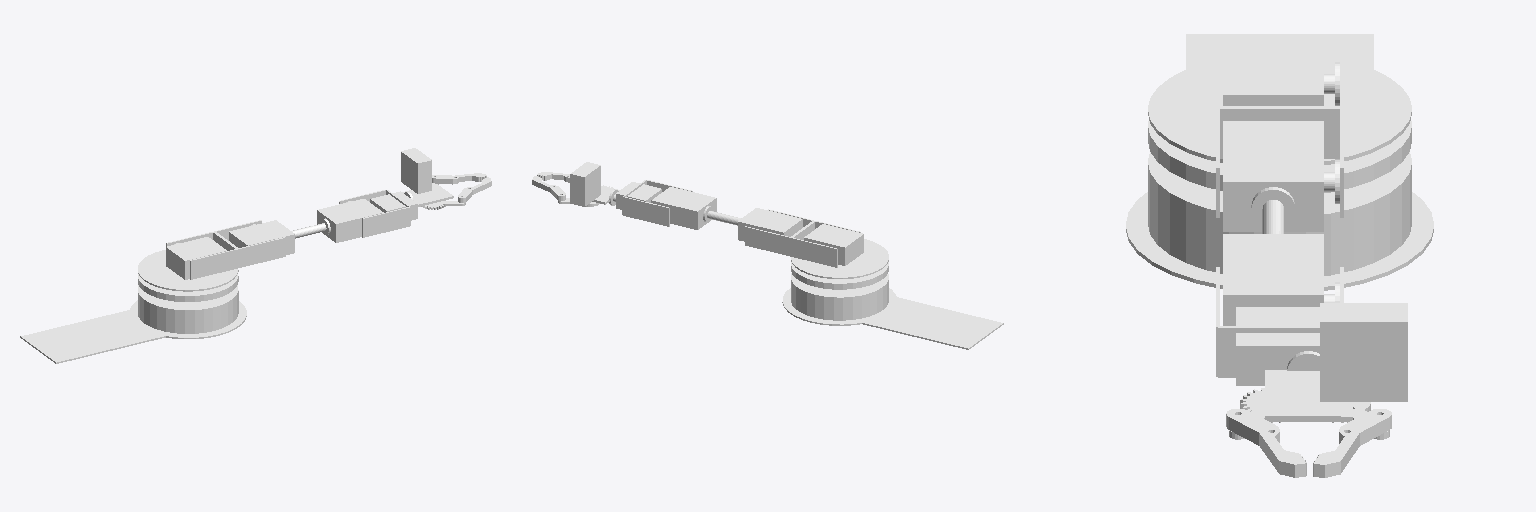
robot.urdf — robot:
<?xml version="1.0"?>
<robot name="robot">

	<material name="red">
		<color rgba="1 1 1 1"/>
	</material>

	<material name="blue">
		<color rgba="0 0 0.8 1"/>
	</material>
	
	<material name="white">
		<color rgba="1 1 1 1"/>
	</material>

	<material name="black">
		<color rgba="1 1 1 1"/>
	</material>


	<link name="base_link">
		<visual>
			<geometry>
				<cylinder radius="0.7" length="0.02"/>
			</geometry>
			<material name="black"/>
			<origin rpy="0 0 0" xyz="0 0 0"/>
		</visual>
	</link>


	<link name="base_black">
		<visual>
			<geometry>
				<cylinder radius="0.6" length="0.31"/>
			</geometry>
			<material name="black"/>
			<origin rpy="0 0 0" xyz="0 0 0"/>
		</visual>
	</link>

	<joint name="base_link_black" type="fixed">
		<parent link="base_link"/>
		<child link="base_black"/>
		<origin rpy="0 0 0" xyz="0 0 0.17"/>
	</joint>

	<link name="base_box">
		<visual>
			<geometry>
				<box size="2.05 0.85 0.02"/>
			</geometry>
			<material name="black"/>
			<origin rpy="0 0 0" xyz="-0.325 0 0"/>
		</visual>
	</link>

	<joint name="base_link_box" type="fixed">
		<parent link="base_link"/>
		<child link="base_box"/>
		<origin rpy="0 0 0" xyz="-0.7 0 0"/>
	</joint>


	<link name="base_white">
		<visual>
			<geometry>
				<cylinder radius="0.6" length="0.08"/>
			</geometry>
			<material name="white"/>
		<origin rpy="0 0 0" xyz="0 0 -0.04"/>
		</visual>
	</link>


	<joint name="base_black_white" type="fixed">
		<parent link="base_black"/>
		<child link="base_white"/>
		<origin rpy="0 0 0" xyz="0 0 0.34"/>
	</joint>

	<link name="base_link_rot">
		<visual>
			<geometry>
				<cylinder radius="0.6" length="0.02"/>
			</geometry>
			<material name="black"/>
			<origin rpy="0 0 0" xyz="0 0 -0.01"/>
		</visual>
	</link>
		
	<joint name="joint0" type="revolute">
		<parent link="base_white"/>
		<child link="base_link_rot"/>
		<limit effort="1000.0" lower="-1.5707" upper="1.5707" velocity="0.5"/>
		<origin rpy="0 0 0" xyz="0 0 0.08"/>
		<axis xyz="0 0 1"/>
	</joint>

	

	<link name="link1">
		<visual>
			<geometry>
				<box size="0.58 0.46 0.25"/>
			</geometry>
			<origin rpy="0 0 0" xyz="0 0 0"/>
			<material name="red"/>
		</visual>
	</link>

	<joint name="base_link1" type="fixed">
		<parent link="base_link_rot"/>
		<child link="link1"/>
		<origin rpy="0 0 0" xyz="0.1 -0.03 0.125"/>
		<axis xyz="0 0 1"/>
	</joint>

	<link name="link1_rot1">
		<visual>
			<geometry>
				<cylinder radius="0.045" length="0.05"/>
			</geometry>
			<material name="white"/>
			<origin rpy="0 0 0" xyz="0 0 -0.025"/>
		</visual>
	</link>
		
	<joint name="joint1" type="revolute">
		<parent link="link1"/>
		<child link="link1_rot1"/>
		<limit effort="1000.0" lower="0" upper="3.1415" velocity="0.5"/>
		<origin rpy="1.5707 0 0" xyz="-0.1 0.23 0"/>
		<axis xyz="0 0 1"/>
	</joint>

	<link name="link1_rot2">
		<visual>
			<geometry>
				<cylinder radius="0.1" length="0.02"/>
			</geometry>
			<material name="white"/>
			<origin rpy="0 0 0" xyz="0 0 -0.01"/>
		</visual>
	</link>
		
	<joint name="link1_rot2_rot1" type="fixed">
		<parent link="link1_rot1"/>
		<child link="link1_rot2"/>
		<origin rpy="0 0 0" xyz="0 0 -0.05"/>
	</joint>

	<link name="link1_frame1">
		<visual>
			<geometry>
				<box size="0.65 0.25 0.02"/>
			</geometry>
			<material name="black"/>
			<origin rpy="0 0 0" xyz="-0.325 0 0"/>
		</visual>
	</link>

	<joint name="link1_rot2_frame1" type="fixed">
		<parent link="link1_rot2"/>
		<child link="link1_frame1"/>
		<origin rpy="0 0 0" xyz="0.52 0 -0.03"/>
	</joint>
	
	<link name="link1_frame2">
		<visual>
			<geometry>
				<box size="0.04 0.25 0.56"/>
			</geometry>
			<material name="black"/>
			<origin rpy="0 0 0" xyz="0 0 -0.28"/>
		</visual>
	</link>

	<joint name="link1_frame1_frame2" type="fixed">
		<parent link="link1_frame1"/>
		<child link="link1_frame2"/>
		<origin rpy="0 0 0" xyz="0 0 0.56"/>
	</joint>

	<link name="link1_frame3">
		<visual>
			<geometry>
				<box size="0.65 0.25 0.02"/>
			</geometry>
			<material name="black"/>
			<origin rpy="0 0 0" xyz="-0.325 0 0"/>
		</visual>
	</link>

	<joint name="link1_frame1_frame3" type="fixed">
		<parent link="link1_frame1"/>
		<child link="link1_frame3"/>
		<origin rpy="0 0 0" xyz="0.65 0 0"/>
	</joint>

	<link name="link1_frame4">
		<visual>
			<geometry>
				<box size="0.65 0.25 0.02"/>
			</geometry>
			<material name="black"/>
			<origin rpy="0 0 0" xyz="-0.325 0 0"/>
		</visual>
	</link>

	<joint name="link1_frame2_frame4" type="fixed">
		<parent link="link1_frame2"/>
		<child link="link1_frame4"/>
		<origin rpy="0 0 0" xyz="0 0 0"/>
	</joint>

	<link name="link1_frame5">
		<visual>
			<geometry>
				<box size="0.65 0.25 0.02"/>
			</geometry>
			<material name="black"/>
			<origin rpy="0 0 0" xyz="-0.325 0 0"/>
		</visual>
	</link>

	<joint name="link1_frame4_frame5" type="fixed">
		<parent link="link1_frame4"/>
		<child link="link1_frame5"/>
		<origin rpy="0 0 0" xyz="0.65 0 0"/>
	</joint>

	<link name="link2">
		<visual>
			<geometry>
				<box size="0.65 0.25 0.46"/>
			</geometry>	
			<material name="red"/>
			<origin rpy="0 0 0" xyz="-0.325 0 0"/>
		</visual>
	</link>

	<link name="link2_rot1">
		<visual>
			<geometry>
				<cylinder radius="0.045" length="0.05"/>
			</geometry>	
			<material name="white"/>
			<origin rpy="0 0 0" xyz="0 0 -0.025"/>
		</visual>
	</link>

	
	<link name="link2_rot2">
		<visual>
			<geometry>
				<cylinder radius="0.1" length="0.02"/>
			</geometry>	
			<material name="white"/>
			<origin rpy="0 0 0" xyz="0 0 -0.01"/>
		</visual>
	</link>


	<joint name="joint2" type="revolute">
		<parent link="link1_frame3"/>
		<child link="link2_rot1"/>
		<limit effort="1000.0" lower="-1.5707" upper="1.5707" velocity="0.5"/>
		<origin rpy="0 0 0" xyz="-0.12 0 0.08"/>
		<axis xyz="0 0 1"/>
	</joint>

	<joint name="link2_rot2_rot1" type="fixed">
		<parent link="link2_rot1"/>
		<child link="link2_rot2"/>
		<origin rpy="0 0 0" xyz="0 0 -0.05"/>
	</joint>

	<joint name="link2_rot1" type="fixed">
		<parent link="link2_rot2"/>
		<child link="link2"/>
		<origin rpy="0 0 0" xyz="0.27 0 0.28"/>
	</joint>

	<link name="link2_bar1">
		<visual>
			<geometry>
				<cylinder radius="0.1" length="0.03"/>
			</geometry>	
			<material name="white"/>
			<origin rpy="0 1.57 0" xyz="-0.015 0 0"/>
		</visual>
	</link>

	<!-- link2_bar1 will be a virtual revolute joint 
			 as well as link2_bar1_bar2 these should improve 
			the accurasy of kdl kinematic solver
	-->
	
	<joint name="link2_bar1" type="revolute">
		<parent link="link2"/>
		<child link="link2_bar1"/>
		<limit effort="1000.0" lower="-0.005" upper="0.005" velocity="0.5"/>
		<axis xyz="1 0 0"/>
		<origin rpy="0 0 0" xyz="0.03 0 0"/>
	</joint>

	<link name="link2_bar2">
		<visual>
			<geometry>
				<cylinder radius="0.05" length="0.5"/>
			</geometry>	
			<material name="white"/>
			<origin rpy="0 1.57 0" xyz="-0.25 0 0"/>
		</visual>
	</link>

	<joint name="link2_bar1_bar2" type="revolute">
		<parent link="link2_bar1"/>
		<child link="link2_bar2"/>
		<limit effort="1000.0" lower="-0.005" upper="0.005" velocity="0.5"/>
		<axis xyz="0 1 0"/>
		<origin rpy="0 0 0" xyz="0.5 0 0"/>
	</joint>

	<!-- !!!! END of virtual joints !!!!! -->
	
	<link name="link2_bar3">
		<visual>
			<geometry>
				<cylinder radius="0.1" length="0.03"/>
			</geometry>	
			<material name="white"/>
			<origin rpy="0 1.57 0" xyz="-0.015 0 0"/>
		</visual>
	</link>

	<joint name="link2_bar2_bar3" type="fixed">
		<parent link="link2_bar2"/>
		<child link="link2_bar3"/>
		<origin rpy="0 0 0" xyz="0.03 0 0"/>
	</joint>

	<link name="link3">
		<visual>
			<geometry>
				<box size="0.65 0.25 0.46"/>
			</geometry>	
			<material name="red"/>
			<origin rpy="0 0 0" xyz="0 0 0"/>
		</visual>
	</link>

	<joint name="link2_bar3_link3" type="fixed">
		<parent link="link2_bar3"/>
		<child link="link3"/>
		<origin rpy="0 0 0" xyz="0.325 0 0"/>
	</joint>

	<link name="link3_rot1">
		<visual>
			<geometry>
				<cylinder radius="0.045" length="0.05"/>
			</geometry>	
			<material name="white"/>
			<origin rpy="0 0 0" xyz="0 0 -0.025"/>
		</visual>
	</link>

	<joint name="joint3" type="revolute">
		<parent link="link3"/>
		<child link="link3_rot1"/>
		<limit effort="1000.0" lower="-1.5707" upper="1.5707" velocity="0.5"/>
		<origin rpy="0 0 0" xyz="0.155 0 -0.23"/>
		<axis xyz="0 0 1"/>
	</joint>
	
	<link name="link3_rot2">
		<visual>
			<geometry>
				<cylinder radius="0.1" length="0.02"/>
			</geometry>	
			<material name="white"/>
			<origin rpy="0 0 0" xyz="0 0 -0.01"/>
		</visual>
	</link>

	<joint name="link3_rot2_rot1" type="fixed">
		<parent link="link3_rot1"/>
		<child link="link3_rot2"/>
		<origin rpy="0 0 0" xyz="0 0 -0.05"/>
	</joint>

	<link name="link3_frame1">
		<visual>
			<geometry>
				<box size="0.65 0.25 0.02"/>
			</geometry>
			<material name="black"/>
			<origin rpy="0 0 0" xyz="-0.325 0 0"/>
		</visual>
	</link>

	<joint name="link3_rot2_frame1" type="fixed">
		<parent link="link3_rot2"/>
		<child link="link3_frame1"/>
		<origin rpy="0 0 0" xyz="0.52 0 -0.03"/>
	</joint>
	
	<link name="link3_frame2">
		<visual>
			<geometry>
				<box size="0.02 0.25 0.56"/>
			</geometry>
			<material name="black"/>
			<origin rpy="0 0 0" xyz="0 0 -0.28"/>
		</visual>
	</link>

	<joint name="link3_frame1_frame2" type="fixed">
		<parent link="link3_frame1"/>
		<child link="link3_frame2"/>
		<origin rpy="0 0 0" xyz="0 0 0.56"/>
	</joint>

	<link name="link3_frame3">
		<visual>
			<geometry>
				<box size="0.65 0.25 0.02"/>
			</geometry>
			<material name="black"/>
			<origin rpy="0 0 0" xyz="-0.325 0 0"/>
		</visual>
	</link>

	<joint name="link3_frame2_frame3" type="fixed">
		<parent link="link3_frame2"/>
		<child link="link3_frame3"/>
		<origin rpy="0 0 0" xyz="0 0 0"/>
	</joint>

	<link name="link4">
		<visual>
			<geometry>
				<box size="0.42 0.20 0.40"/>
			</geometry>	
			<material name="red"/>
			<origin rpy="0 0 0" xyz="0 0 0"/>
		</visual>
	</link>

	<joint name="link3_frame1_link4" type="fixed">
		<parent link="link3_frame1"/>
		<child link="link4"/>
		<origin rpy="0 0 0" xyz="-0.06 0 0.28"/>
	</joint>

	<link name="link4_rot1">
		<visual>
			<geometry>
				<cylinder radius="0.045" length="0.05"/>
			</geometry>	
			<material name="white"/>
			<origin rpy="0 0 0" xyz="0 0 0.025"/>
		</visual>
	</link>

	<joint name="joint4" type="revolute">
		<parent link="link4"/>
		<child link="link4_rot1"/>
		<limit effort="1000.0" lower="-1.5707" upper="1.5707" velocity="0.5"/>
		<origin rpy="0 1.5707 0" xyz="0.21 0 -0.13"/>
		<axis xyz="0 0 1"/>
	</joint>
	
	<link name="link4_rot2">
		<visual>
			<geometry>
				<cylinder radius="0.1" length="0.02"/>
			</geometry>	
			<material name="white"/>
			<origin rpy="0 0 0" xyz="0 0 -0.01"/>
		</visual>
	</link>

	<joint name="link4_rot2_rot1" type="fixed">
		<parent link="link4_rot1"/>
		<child link="link4_rot2"/>
		<origin rpy="0 0 0" xyz="0 0 0.07"/>
	</joint>

  <!-- adding virtual joints for kdl kinematics solver 
			These links and joints are used because
			the kdl solver works with 6 or more dof
		-->

	<link name="vl0">
		<visual>
			<geometry>
				<cylinder radius="0.1" length="0.02"/>
			</geometry>	
			<material name="white"/>
			<origin rpy="0 0 0" xyz="0 0 0"/>
		</visual>
	</link>

	<joint name="vj0" type="revolute">
		<parent link="link4_rot2"/>
		<child link="vl0"/>
		<limit effort="1000.0" lower="-0.005" upper="0.005" velocity="0.5"/>
		<origin rpy="0 0 0" xyz="0 0 0"/>
		<axis xyz="0 1 0"/>
	</joint>
	
	<link name="vl1">
		<visual>
			<geometry>
				<cylinder radius="0.1" length="0.02"/>
			</geometry>	
			<material name="white"/>
			<origin rpy="0 0 0" xyz="0 0 0"/>
		</visual>
	</link>

	<joint name="vj1" type="revolute">
		<parent link="vl0"/>
		<child link="vl1"/>
		<limit effort="1000.0" lower="-0.005" upper="0.005" velocity="0.5"/>
		<origin rpy="0 0 0" xyz="0 0 0"/>
		<axis xyz="1 0 0"/>
	</joint>

	<!-- END of Virtual joints and links -->

	<!-- Gripper -->
    
	<joint name="arm_hand" type="fixed">
		<parent link="vl1"/>
		<child link="hand_base"/>
		<origin rpy="1.57 -1.57 0" xyz="0 0 0.25"/>
	</joint>


    <link name="hand_base">
    <visual>
      <origin xyz="0 0 0" rpy="0 0 0" />
      <geometry>
				<box size="0.5 0.4 0.03"/>
      </geometry>
      <material name="black"/>
    </visual>
  </link>


  <link name="hand_right_finger">
    <visual>
      <origin xyz="0.11 0 0" rpy="0 0 0" />
      <geometry>
        <mesh
            filename="package://robot_urdf/meshes/hand_right_finger.STL"
		    scale="11 11 11" />
      </geometry>
      <material name="white"/>
    </visual>
  </link>

  <joint name="hand_base_right" type="revolute">
    <origin
      xyz="0 -0.15 0.06"
      rpy="-1.57 0 3.0 " />
    <parent link="hand_base" />
    <child link="hand_right_finger" />
    <axis xyz="0 1 0" />
    <limit
      lower="0"
      upper="0.57"
      effort="1000"
      velocity="0.5" />
  </joint>


  <!-- Right finger servo -->
  <link name="right_finger_servo">
    <visual>
      <origin xyz="0 0 0" rpy="0 0 0" />
      <geometry>
        <box size="0.2 0.4 0.4"/>
      </geometry>
      <material name="red"/>
    </visual>
  </link>

  <joint name="hand_right_servo" type="fixed">
    <parent link="hand_base"/>
    <child link="right_finger_servo"/>
    <origin rpy="0 0 0" xyz="0 -0.25 -0.22"/>
  </joint>


  <link name="hand_left_finger">
    <visual>
      <origin xyz="0.11 0 0" rpy="0 0 0" />
      <geometry>
        <mesh
            filename="package://robot_urdf/meshes/hand_left_finger.STL" 
		    scale="11 11 11" />
      </geometry>
      <material name="white"/>
    </visual>
  </link>

  <joint name="hand_base_left" type="revolute">
		<mimic joint="hand_base_right"/>
    <origin
      xyz="0 0.15 0.06"
      rpy="-1.57 0 0.52" />
    <parent link="hand_base" />
    <child link="hand_left_finger" />
    <axis xyz="0 -1 0" />
    <limit
      lower="0"
      upper="0.57"
      effort="1000"
      velocity="1000" />
  </joint>


</robot>			

--- Render facts (derived) ---
Views: 3 orthographic renders of the robot side by side, from view 1: azimuth 30°, elevation 25°; view 2: azimuth 150°, elevation 25°; view 3: azimuth 270°, elevation 25°.
Robot: robot — 34 links, 33 joints (11 revolute, 22 fixed); root link base_link; default pose: every joint at zero.
Links seen in each view (by area): view 1: base_box, base_black, base_link_rot, link3, link1, link2, right_finger_servo, base_white, link3_frame3, link1_frame4, link1_frame5, base_link (+2 smaller); view 2: base_box, base_black, base_link_rot, link3, link1, link2, right_finger_servo, base_white, link1_frame1, link3_frame1, link1_frame3, base_link (+1 smaller); view 3: base_black, base_link_rot, link2, right_finger_servo, link3, link1, base_link, link4, base_white, hand_base, base_box, hand_left_finger (+5 smaller).
Boxes of the visible links, x1,y1,x2,y2 form: base_box: (20,308,173,363); base_black: (138,285,238,333); base_link_rot: (138,250,238,291); link3: (317,199,383,242); link1: (166,237,226,279); link2: (229,220,294,254); right_finger_servo: (401,148,431,193); base_white: (138,274,238,301); link3_frame3: (362,207,410,237); link1_frame4: (190,249,237,279); link1_frame5: (238,237,285,267); base_link: (129,300,246,338); base_box: (853,296,1003,349); base_black: (791,273,888,320); base_link_rot: (791,239,888,278); link3: (651,187,716,229); link1: (804,224,863,265); link2: (738,208,802,241); right_finger_servo: (570,162,600,206); base_white: (791,262,888,289); link1_frame1: (791,238,837,267); link3_frame1: (623,197,669,226); link1_frame3: (745,226,790,256); base_link: (782,288,896,325); base_black: (1148,152,1411,275); base_link_rot: (1148,56,1411,164); link2: (1223,121,1323,231); right_finger_servo: (1320,303,1407,401); link3: (1223,234,1323,325); link1: (1223,41,1323,105); base_link: (1126,192,1433,290); link4: (1236,307,1319,385); base_white: (1148,121,1411,192); hand_base: (1265,370,1352,422); base_box: (1186,34,1373,68); hand_left_finger: (1226,388,1306,477).
Size in the robot's own frame: 6.25 by 1.4 by 1.15 metres.
2 mesh visuals loaded from 2 distinct referenced files (2 binary STL).